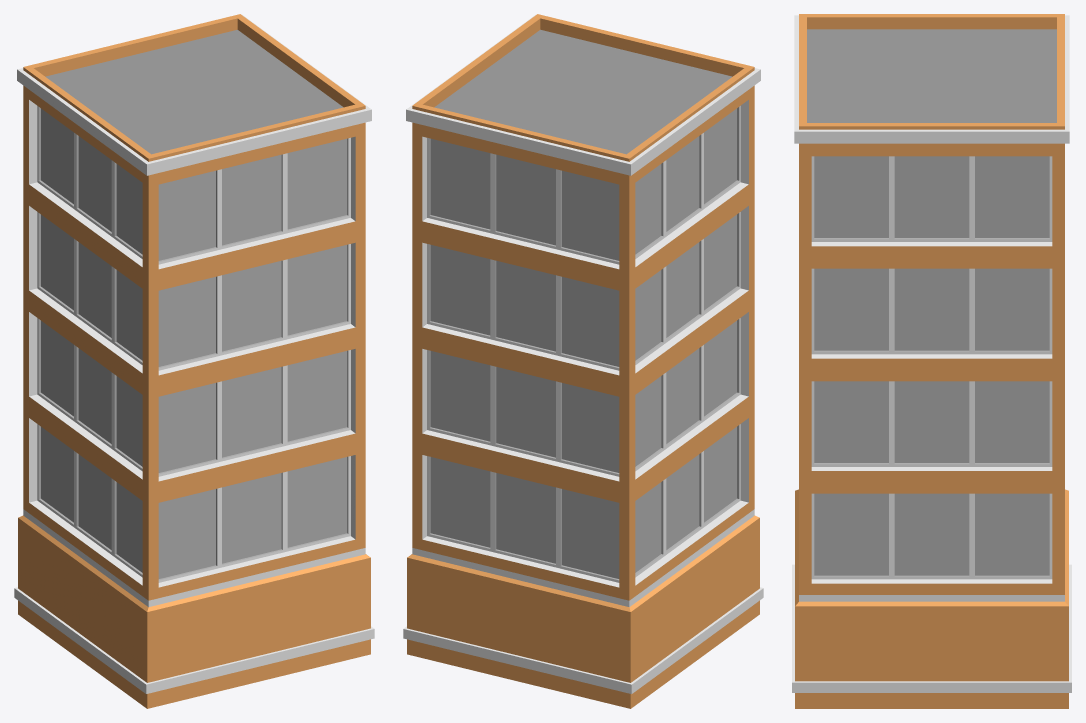
Rendered from SM_House_05_01.FBX.
3 renders of one model, left to right at view 1: azimuth 30°, elevation 25°; view 2: azimuth 150°, elevation 25°; view 3: azimuth 270°, elevation 25°, orthographic. The views are drawn at different scales.
Visible parts, largest first — view 1: SM_House_05_01; view 2: SM_House_05_01; view 3: SM_House_05_01.
Part boxes in pixels (x1,y1,x2,y2): SM_House_05_01: (14,14,374,708); SM_House_05_01: (403,14,763,708); SM_House_05_01: (792,14,1071,708).
Bounding box in the file's own units: 3.16 × 7.23 × 3.16.
Materials: 1 (1 with a texture image).
